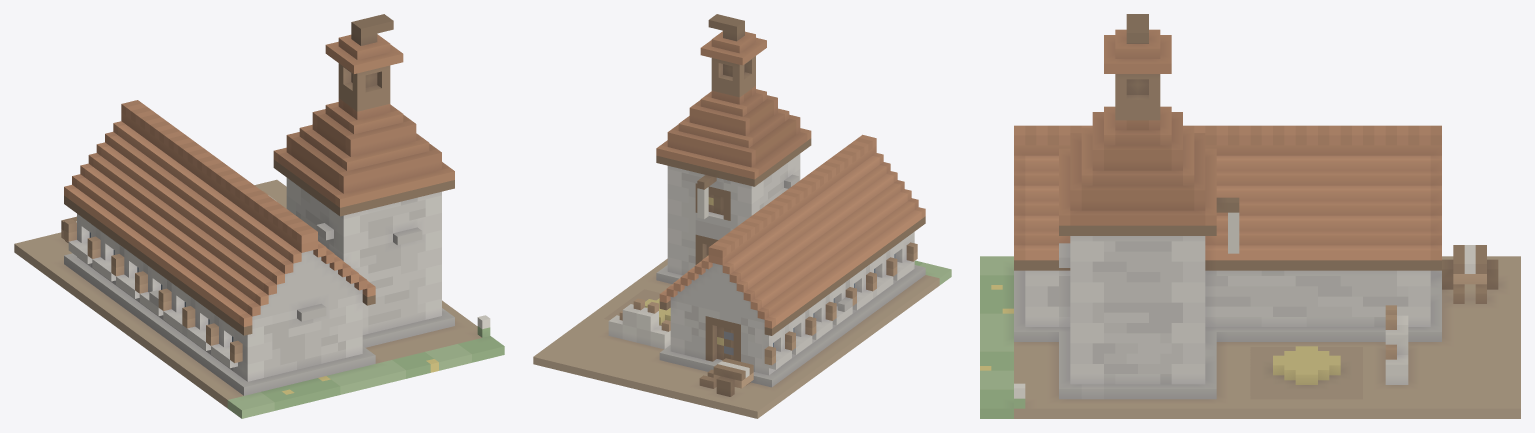
Rendered from malt_house.glb.
3 renders of one model, left to right at view 1: azimuth 30°, elevation 25°; view 2: azimuth 150°, elevation 25°; view 3: azimuth 270°, elevation 25°, orthographic. The views are drawn at different scales.
Visible parts, largest first — view 1: malt_house; view 2: malt_house; view 3: malt_house.
Boxes of the visible parts, x1,y1,x2,y2 form: malt_house: [14, 14, 504, 418]; malt_house: [533, 14, 951, 418]; malt_house: [980, 14, 1520, 418].
Size of the model in its own units: 4 by 4.38 by 6.
